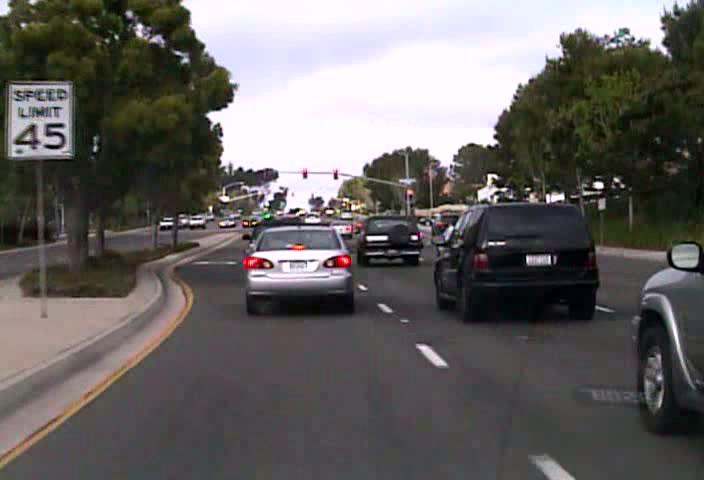speedLimit45: (4, 79, 74, 160)
